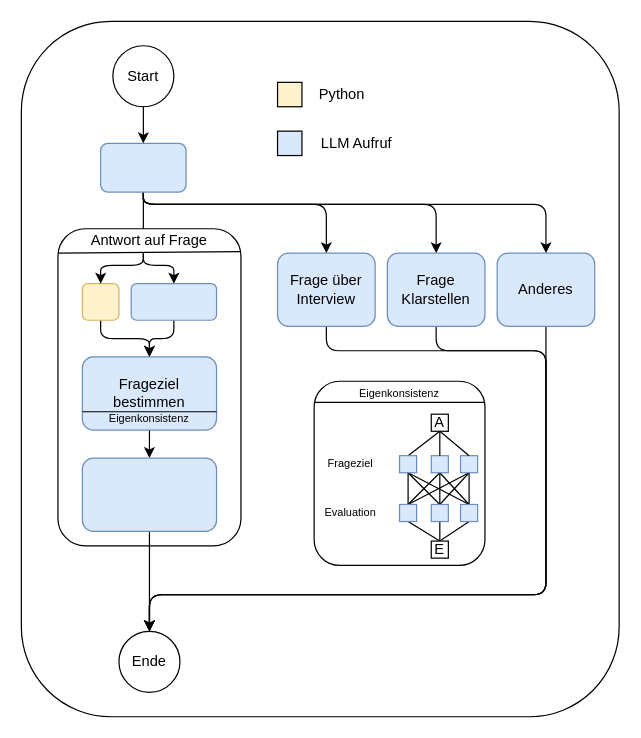
Some shapes in this 641 by 738 pixel diagram are drawn without their labels. The centre of each missing label's shape, as x and y in pixels:
"Absicht" goes at point (142, 167).
"Erkenntnisse" goes at point (173, 301).
"Frage formulieren" goes at point (149, 494).
"Zeit" goes at point (100, 301).
